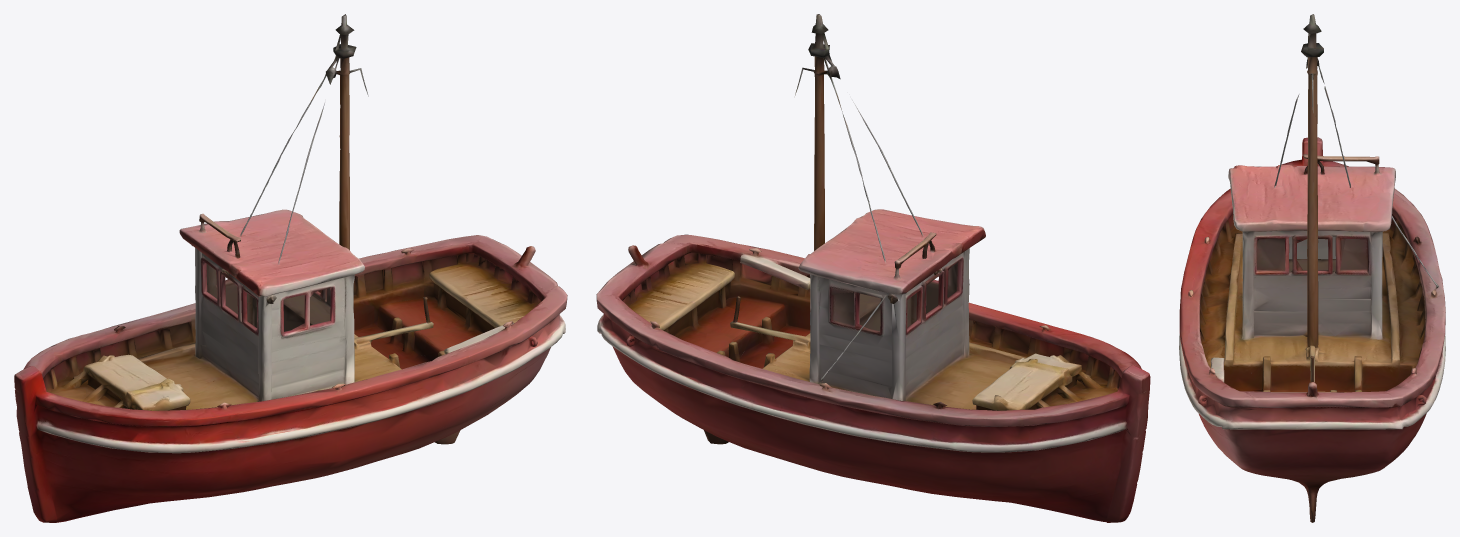
Rendered from boat.glb.
3 views of the same model, side by side, from view 1: azimuth 30°, elevation 25°; view 2: azimuth 150°, elevation 25°; view 3: azimuth 270°, elevation 25° (orthographic).
Parts seen in each view (by area): view 1: tripo_node_3b00540e-7ae6-43ab-9450-b0a8bddfc51c; view 2: tripo_node_3b00540e-7ae6-43ab-9450-b0a8bddfc51c; view 3: tripo_node_3b00540e-7ae6-43ab-9450-b0a8bddfc51c.
Part boxes in pixels (left/top/right/bottom): tripo_node_3b00540e-7ae6-43ab-9450-b0a8bddfc51c: left=14, top=14, right=567, bottom=522; tripo_node_3b00540e-7ae6-43ab-9450-b0a8bddfc51c: left=596, top=14, right=1150, bottom=522; tripo_node_3b00540e-7ae6-43ab-9450-b0a8bddfc51c: left=1179, top=14, right=1445, bottom=522.
Size of the model in its own units: 1 by 0.8394 by 0.445.
Materials: 1 (1 with a texture image).
